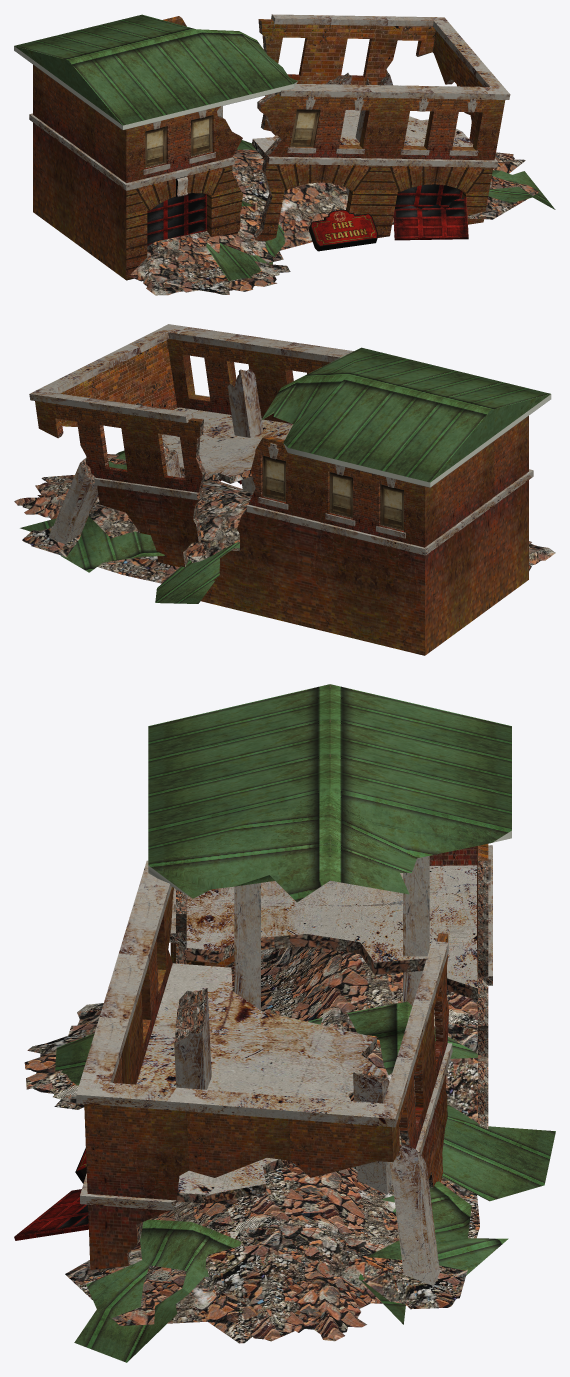
The model's file is collapsed_fire_station.glb.
3 renders of one model, top to bottom at view 1: azimuth 30°, elevation 25°; view 2: azimuth 150°, elevation 25°; view 3: azimuth 270°, elevation 25°, orthographic. The views are drawn at different scales.
Visible parts, largest first — view 1: Destroyed_FireStation; view 2: Destroyed_FireStation; view 3: Destroyed_FireStation.
Part boxes in pixels (left/top/right/bottom): Destroyed_FireStation: left=14, top=14, right=555, bottom=295; Destroyed_FireStation: left=14, top=324, right=555, bottom=655; Destroyed_FireStation: left=14, top=684, right=555, bottom=1362.
Bounding box in the file's own units: 27.97 × 12.49 × 18.28.
6 materials, 2 textured.
